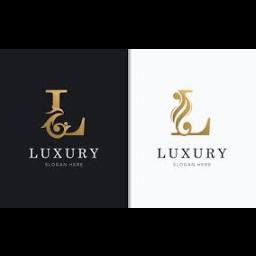l: (36, 81, 92, 141), (27, 146, 39, 160)
r: (78, 146, 88, 160)
u: (40, 146, 52, 158)
x: (54, 146, 62, 158)
y: (90, 144, 100, 160)
